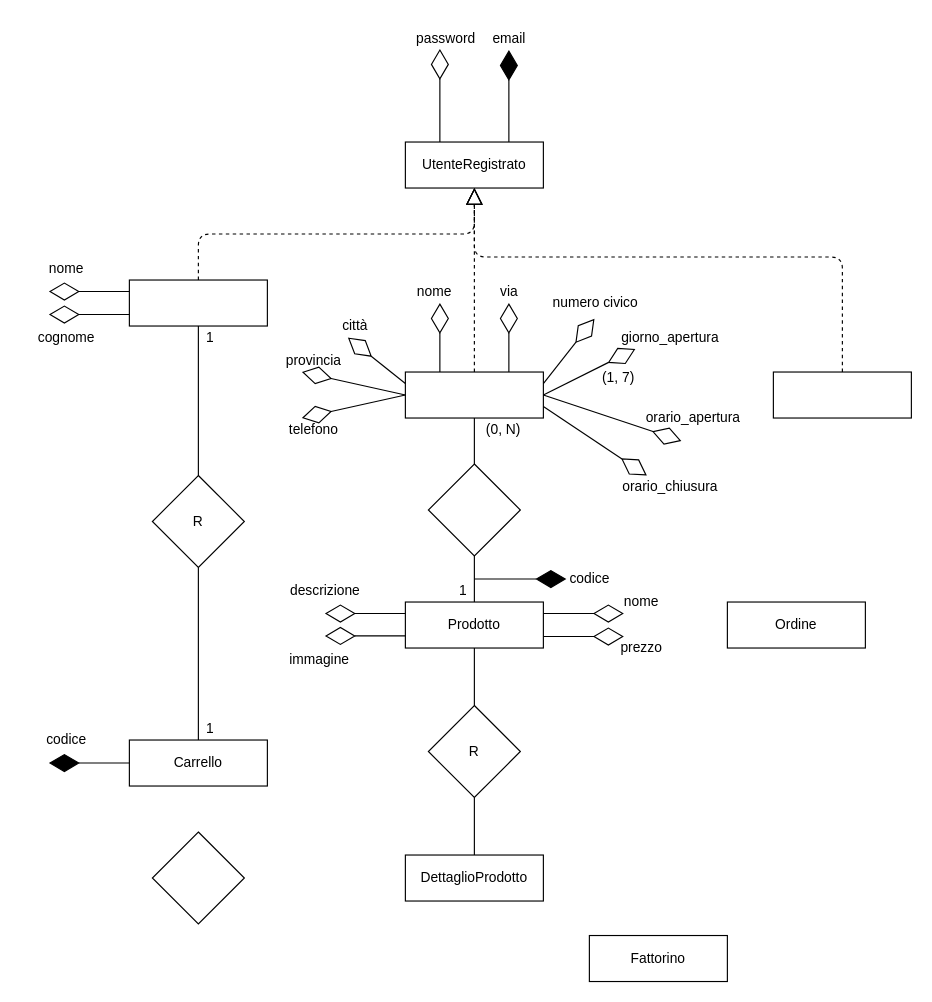
Image size: 932x1002. Some labels were removed from this diagram. The shapes that lost their labels are listed below. From the top down, each one's centre as x and y in pixels, then its label:
pixel 197 302: Cliente
pixel 473 394: Azienda
pixel 841 394: Moderatore
pixel 473 509: Listino
